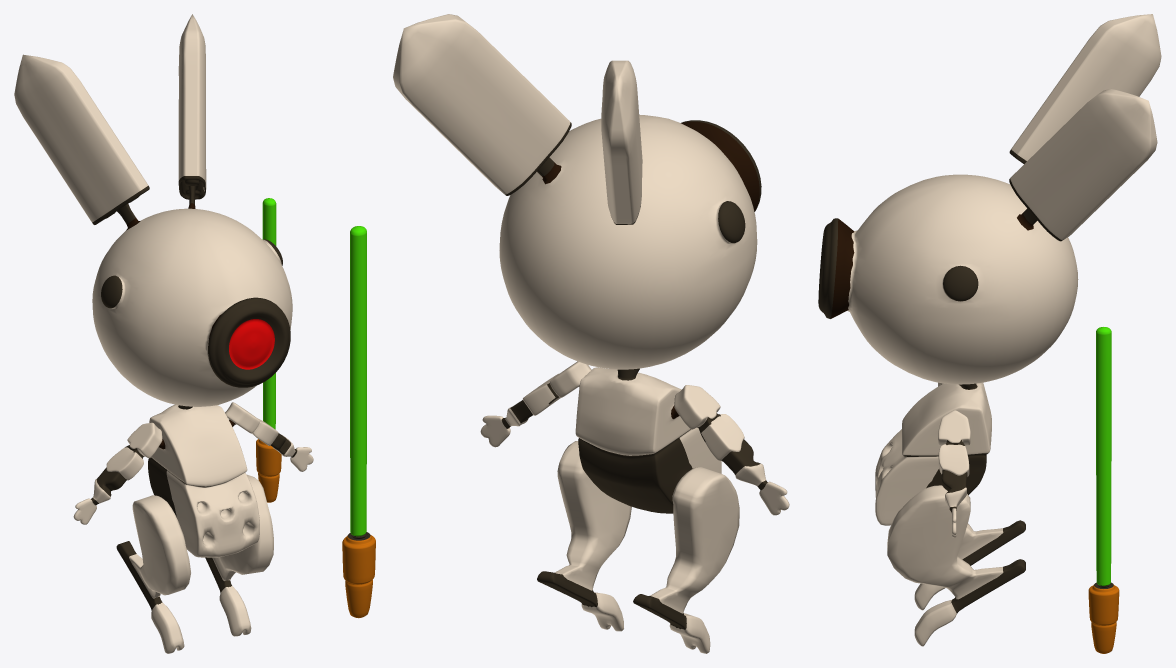
The model's file is robo bunny.fbx.
The picture shows the model from 3 angles, left to right: view 1: azimuth 30°, elevation 25°; view 2: azimuth 150°, elevation 25°; view 3: azimuth 270°, elevation 25°; orthographic projection. The views are drawn at different scales.
Parts seen in each view (by area): view 1: polySurface35, g_upper_carrot; view 2: polySurface35, g_upper_carrot; view 3: polySurface35, g_upper_carrot.
Boxes of the visible parts, x1=… form: polySurface35: x1=14, y1=14, x2=313, y2=653; g_upper_carrot: x1=256, y1=198, x2=281, y2=502; polySurface35: x1=393, y1=14, x2=789, y2=653; g_upper_carrot: x1=342, y1=226, x2=375, y2=618; polySurface35: x1=818, y1=14, x2=1161, y2=646; g_upper_carrot: x1=1088, y1=327, x2=1119, y2=653.
Size of the model in its own units: 28.08 by 51.86 by 28.16.
